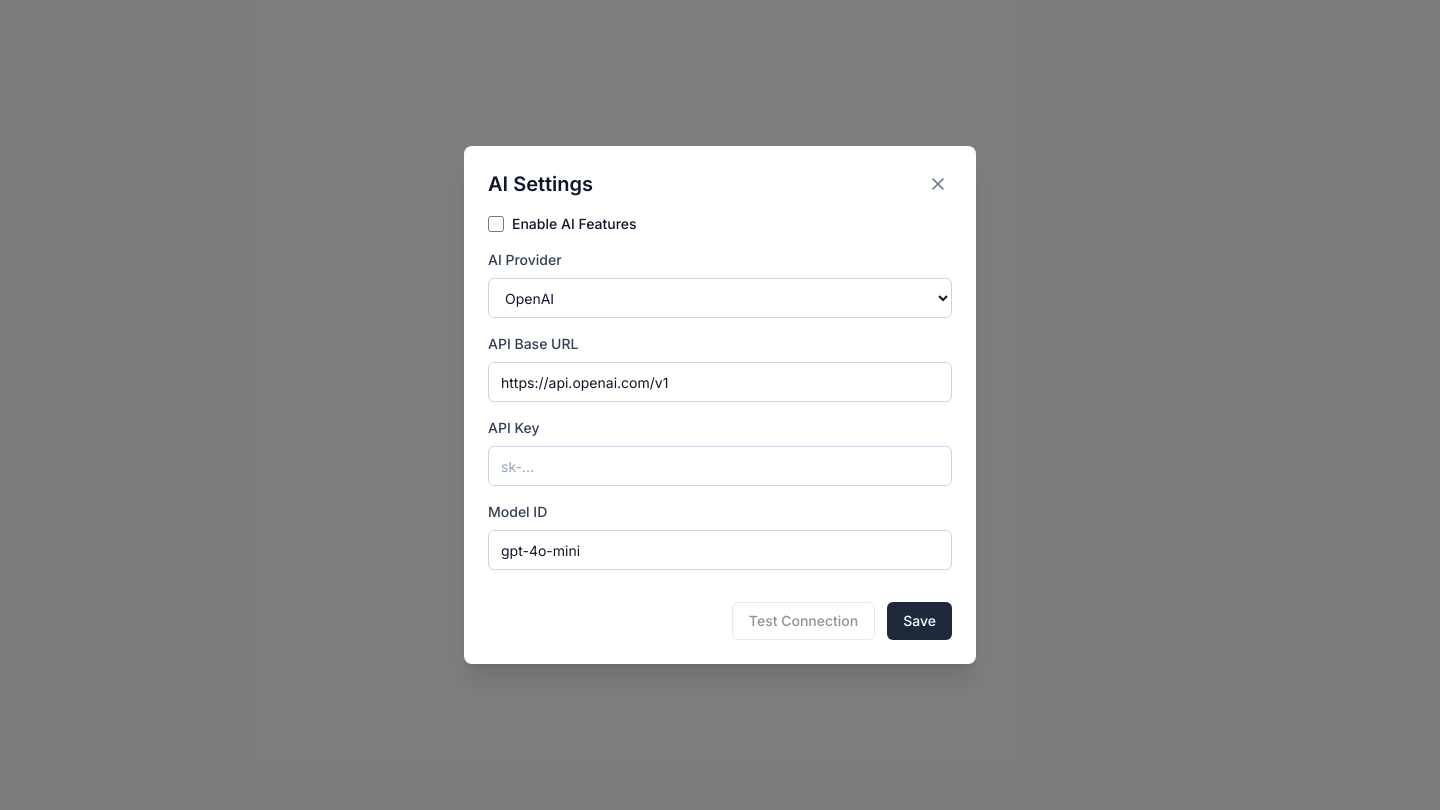
Test case: AISettingsModal › updates provider and defaults when provider changes
Select "Anthropic" in the dropdown labelled "AI Provider": coordinates (720, 298) [488,278,952,318]
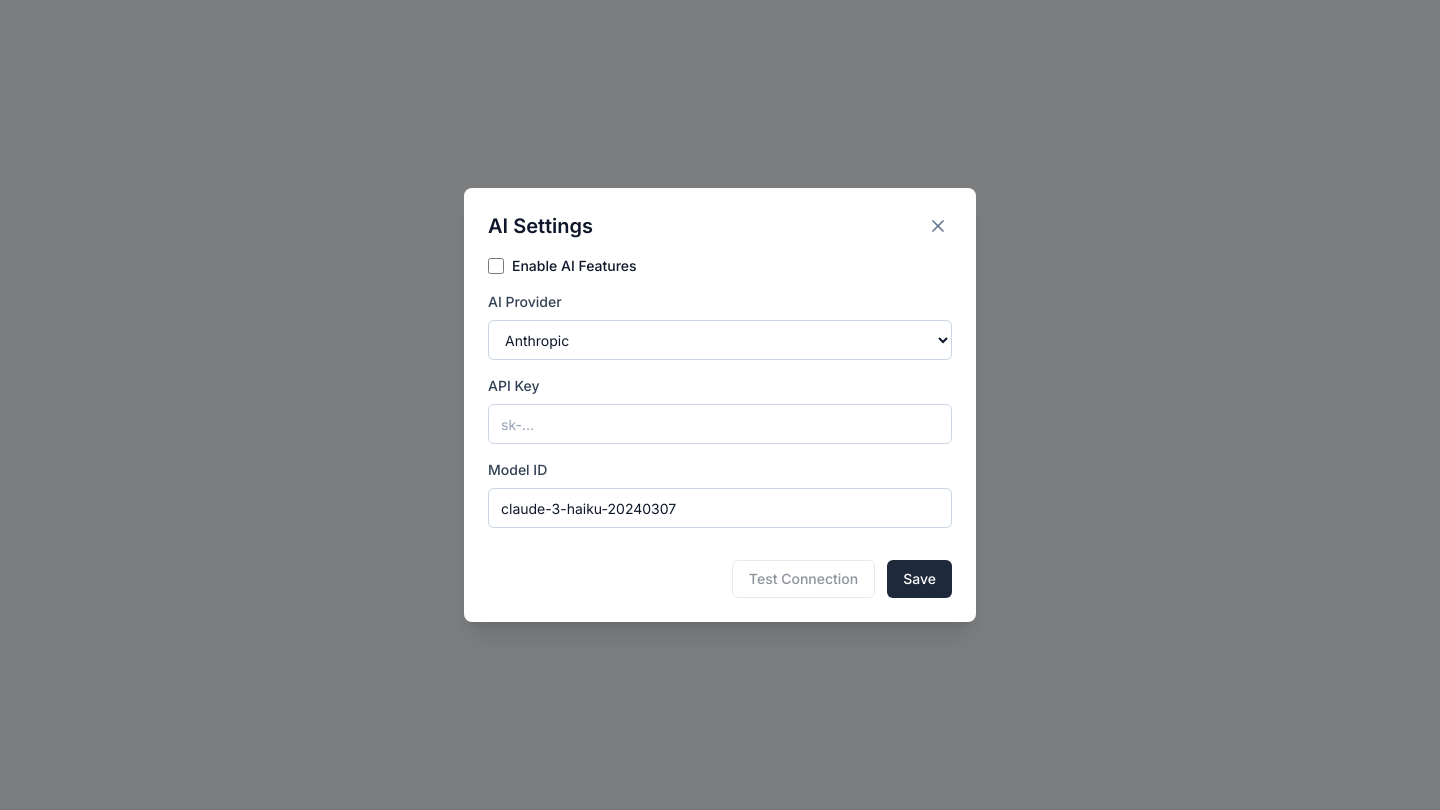
Check: the label labelled "API Base URL" is gone
Check: the field labelled "Model ID" holds "claude-3-haiku-20240307", box [488,488,952,528]
